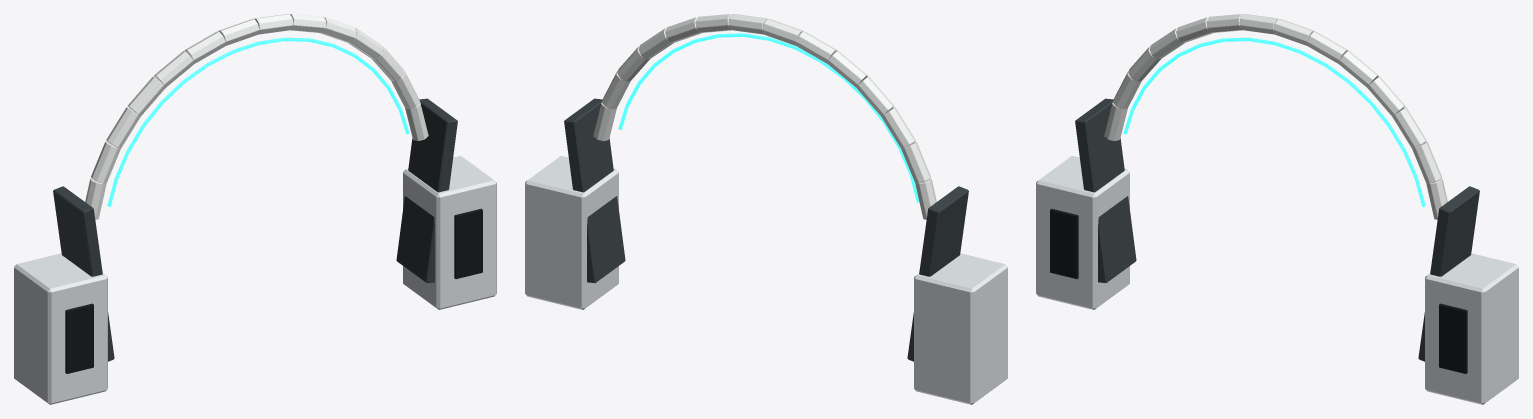
Rendered from ScanRing_A.fbx.
3 views of the same model, side by side, from view 1: azimuth 30°, elevation 25°; view 2: azimuth 150°, elevation 25°; view 3: azimuth 330°, elevation 25° (orthographic).
Visible parts, largest first — view 1: MF_ColdConcrete_Geometry.003, MF_MetalDark_Geometry.003, MF_CeramicLight_Geometry.003, MF_RecessBlack_Geometry.003, MF_PhaseEmitter_Geometry.003; view 2: MF_ColdConcrete_Geometry.003, MF_MetalDark_Geometry.003, MF_CeramicLight_Geometry.003, MF_PhaseEmitter_Geometry.003; view 3: MF_ColdConcrete_Geometry.003, MF_MetalDark_Geometry.003, MF_CeramicLight_Geometry.003, MF_RecessBlack_Geometry.003, MF_PhaseEmitter_Geometry.003.
Boxes of the visible parts, x1,y1,x2,y2 form: MF_ColdConcrete_Geometry.003: (14, 156, 496, 404); MF_MetalDark_Geometry.003: (53, 98, 457, 361); MF_CeramicLight_Geometry.003: (85, 14, 428, 219); MF_RecessBlack_Geometry.003: (65, 208, 482, 373); MF_PhaseEmitter_Geometry.003: (107, 37, 409, 206); MF_ColdConcrete_Geometry.003: (525, 156, 1007, 404); MF_MetalDark_Geometry.003: (564, 98, 968, 361); MF_CeramicLight_Geometry.003: (593, 14, 936, 219); MF_PhaseEmitter_Geometry.003: (618, 33, 919, 202); MF_ColdConcrete_Geometry.003: (1036, 156, 1518, 404); MF_MetalDark_Geometry.003: (1075, 98, 1479, 361); MF_CeramicLight_Geometry.003: (1104, 14, 1447, 219); MF_RecessBlack_Geometry.003: (1050, 208, 1467, 373); MF_PhaseEmitter_Geometry.003: (1123, 37, 1425, 206).
Bounding box in the file's own units: 17.8 × 12.09 × 2.59.
